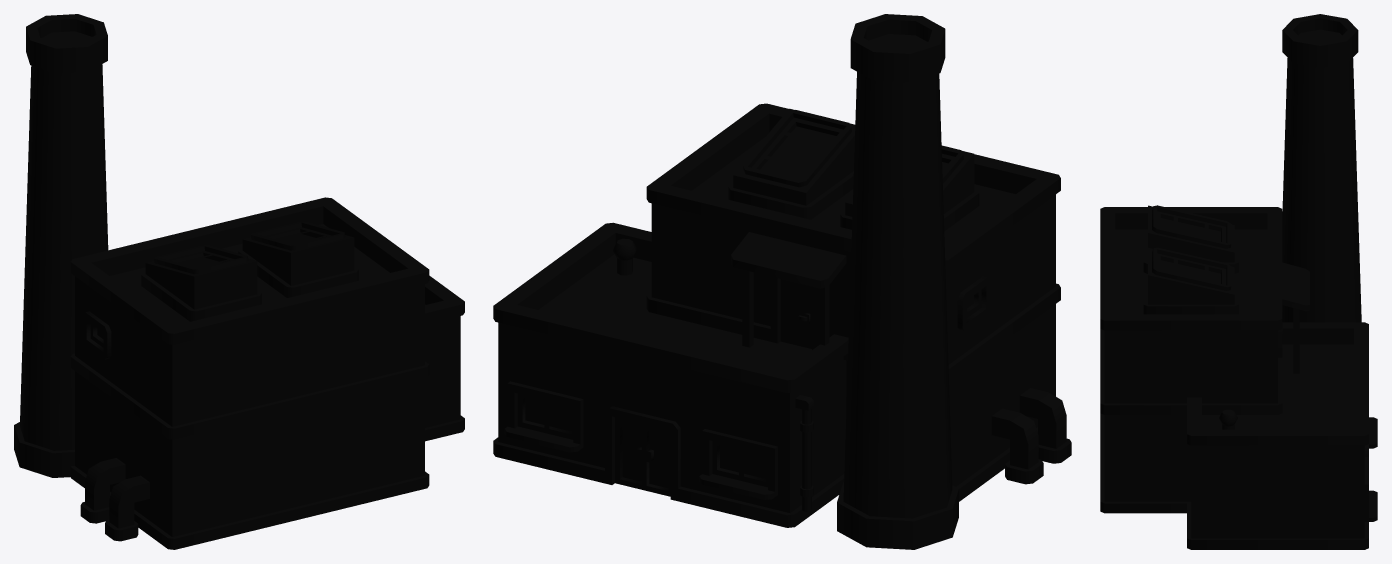
Rendered from building-f.glb.
3 renders of one model, left to right at view 1: azimuth 30°, elevation 25°; view 2: azimuth 150°, elevation 25°; view 3: azimuth 270°, elevation 25°, orthographic. The views are drawn at different scales.
Visible parts, largest first — view 1: building-f; view 2: building-f; view 3: building-f.
Part boxes in pixels (x1,y1,x2,y2): building-f: (14,14,464,549); building-f: (493,14,1071,549); building-f: (1100,14,1377,549).
Bounding box in the file's own units: 1.79 × 1.92 × 1.28.
Materials: 1 (1 with a texture image).
